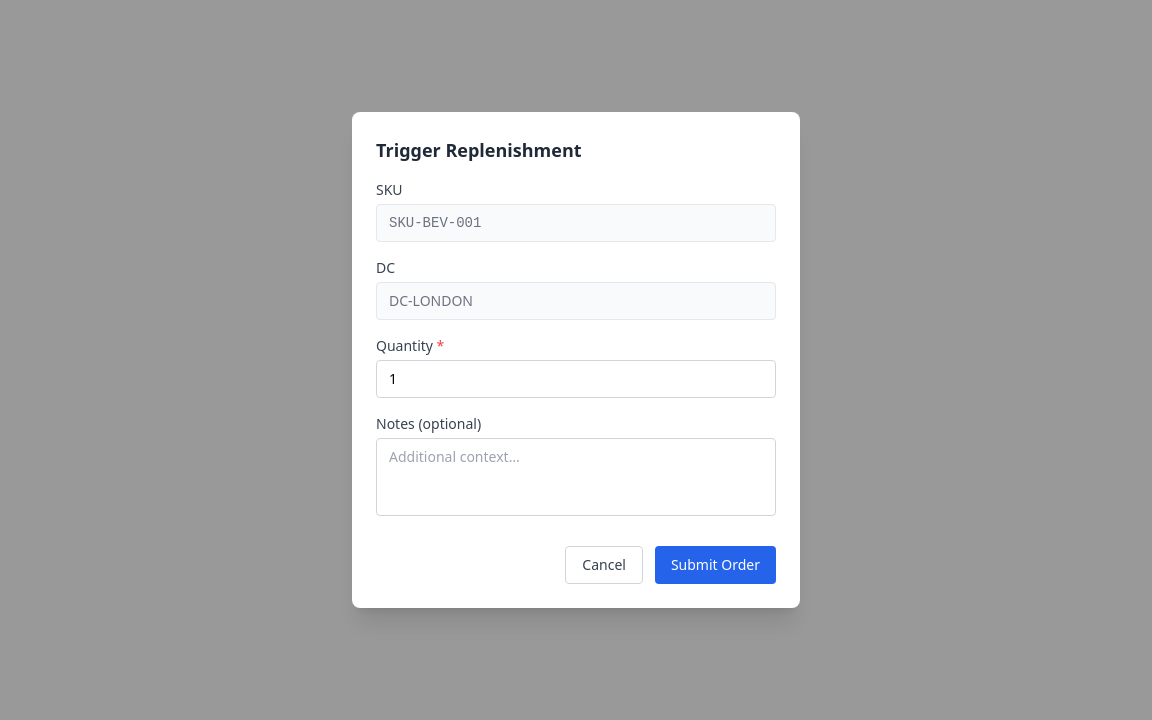
ReplenishmentTriggerModal › shows HTTP error for unexpected status
Click the button "Submit Order": (715, 565) left=655, top=546, right=776, bottom=584
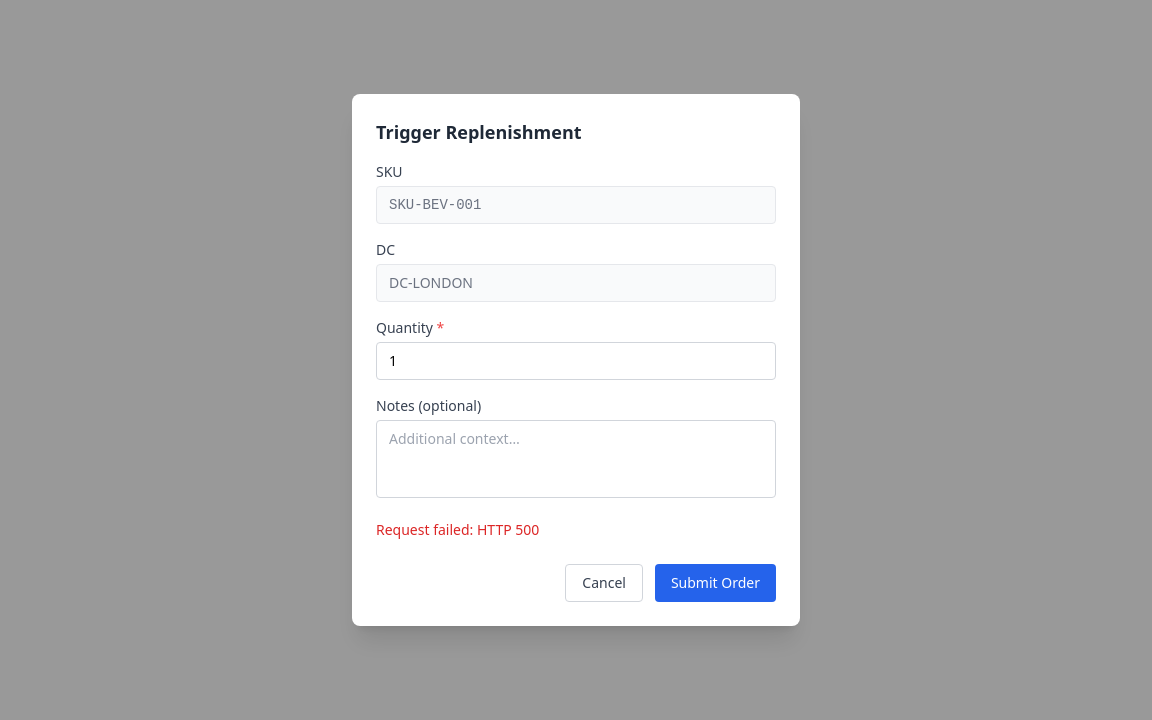
expect the text "Request failed: HTTP 500" is shown: met, box left=376, top=520, right=539, bottom=539
